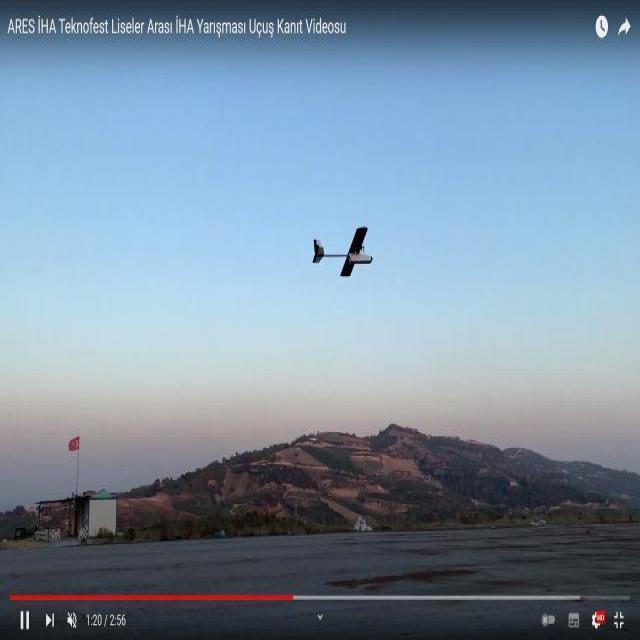UAV: (308, 228, 394, 282)
